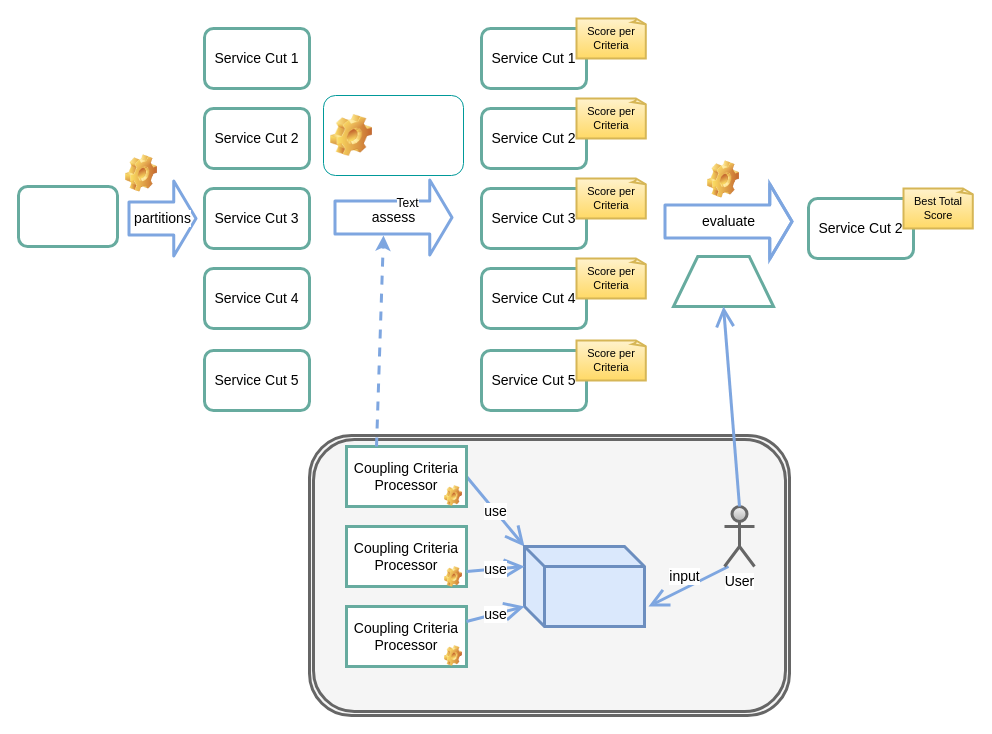
This 992x734 diagram has some shape labels left out. Each missing label, with the box of its shape:
All cuts receive a score per Criteria based on CC Data: (322, 94, 464, 176)
Criteria Priorities: (672, 254, 774, 308)
Data Fields: (16, 184, 118, 248)
UML Use Cases Security: (522, 544, 646, 628)
